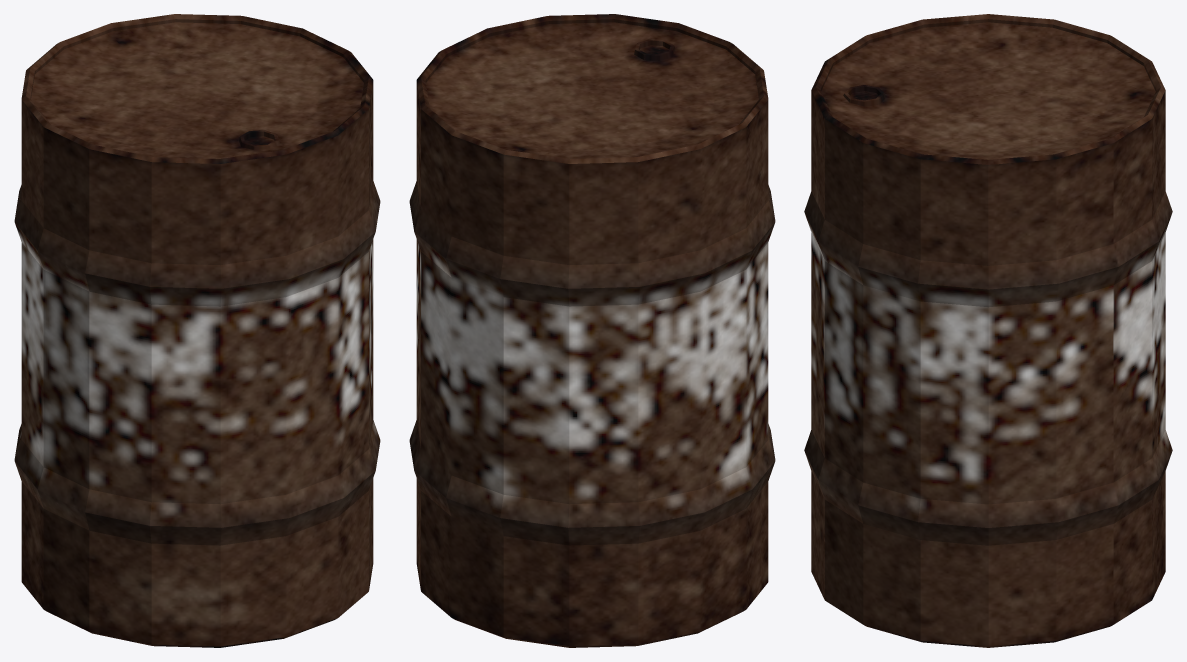
3 views of the same model, side by side, from view 1: azimuth 30°, elevation 25°; view 2: azimuth 150°, elevation 25°; view 3: azimuth 270°, elevation 25° (orthographic).
Visible parts, largest first — view 1: metal_barrel_2; view 2: metal_barrel_2; view 3: metal_barrel_2.
Boxes of the visible parts, <box> form: metal_barrel_2: <box>14,14,380,647</box>; metal_barrel_2: <box>409,14,775,647</box>; metal_barrel_2: <box>804,14,1172,647</box>.
Size of the model in its own units: 0.7488 by 1.09 by 0.7488.
Materials: 1 (1 with a texture image).
